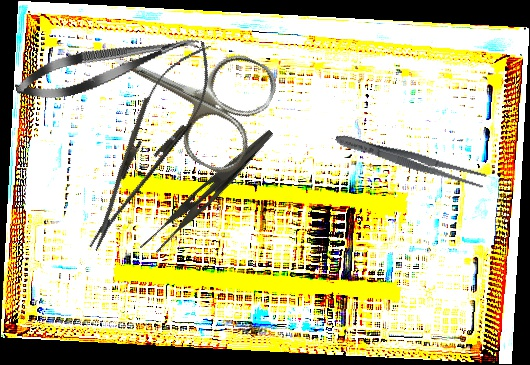Dressing Forceps: (137, 115, 275, 265), (332, 129, 489, 191)
Iris Scissors: (89, 5, 284, 180)
Micro Scissor: (11, 22, 204, 109)
Needle Holder: (67, 30, 231, 262)
